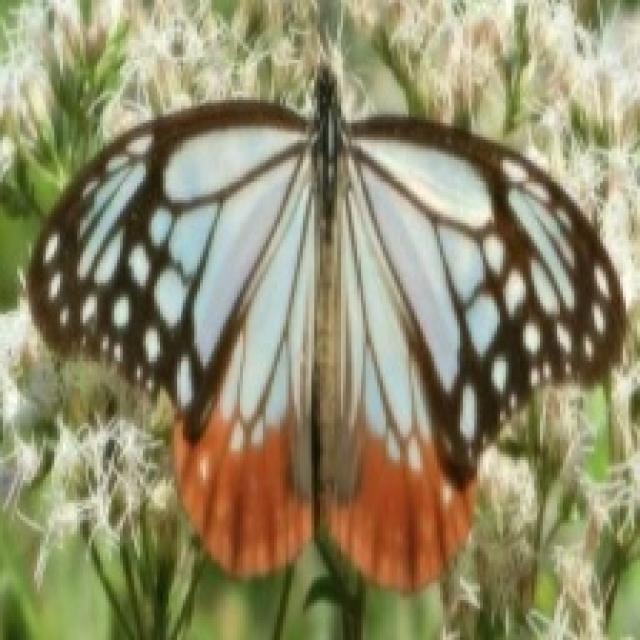butterfly: (23, 40, 628, 591)
